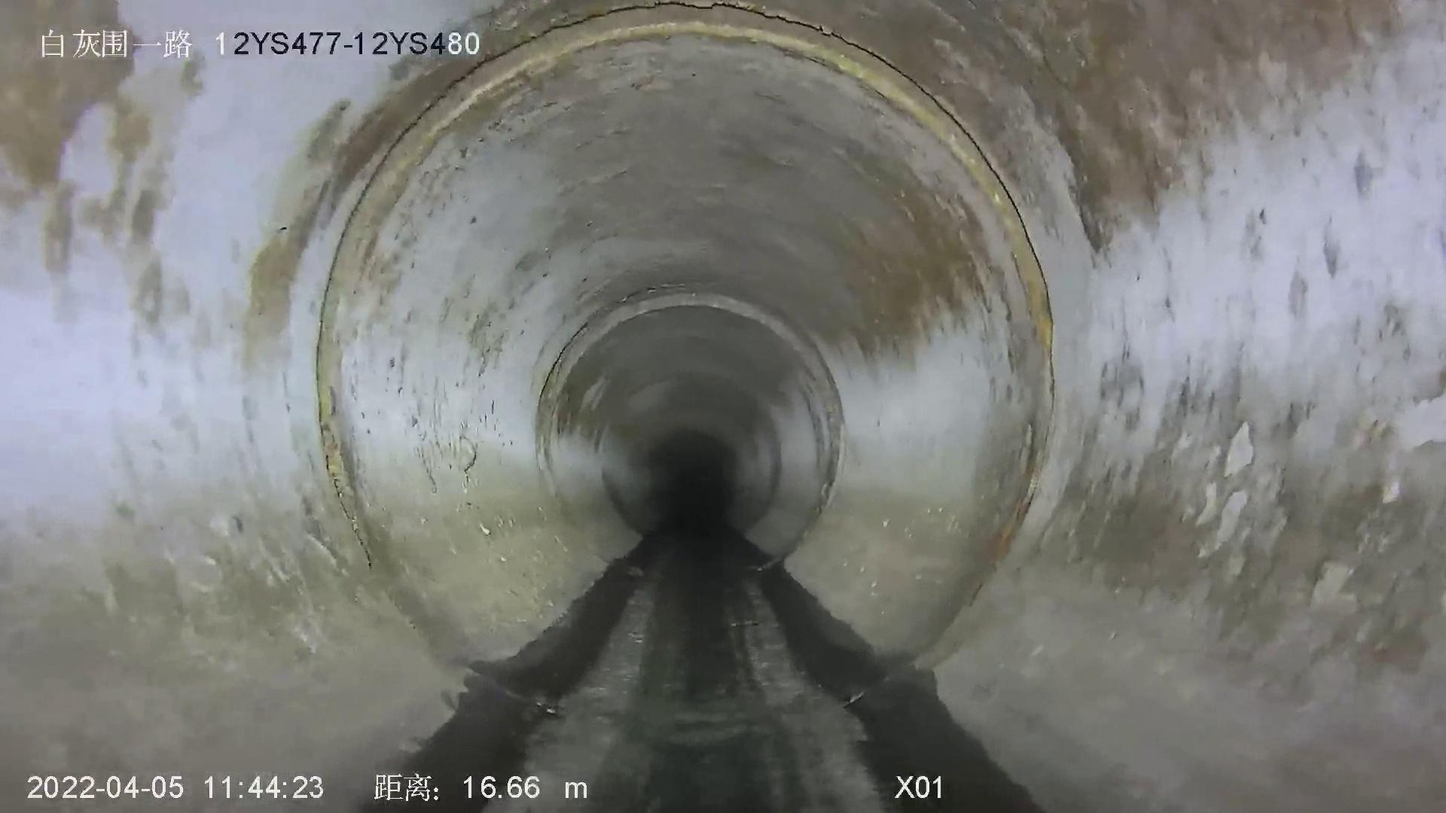CKTJ: (316, 0, 1053, 611), (535, 284, 842, 501)
